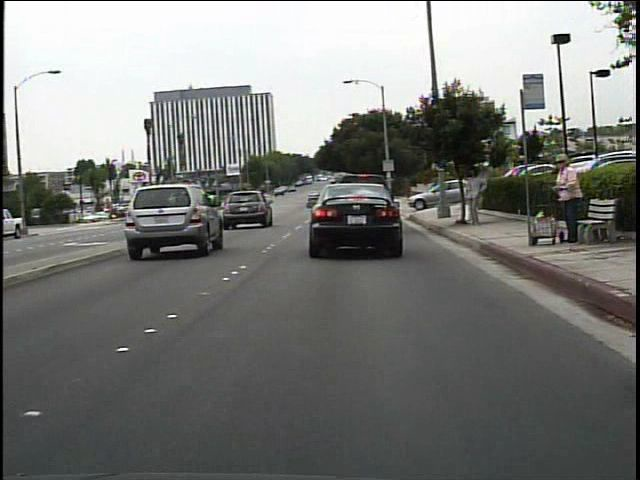person: (546, 150, 589, 250), (462, 162, 490, 227)
